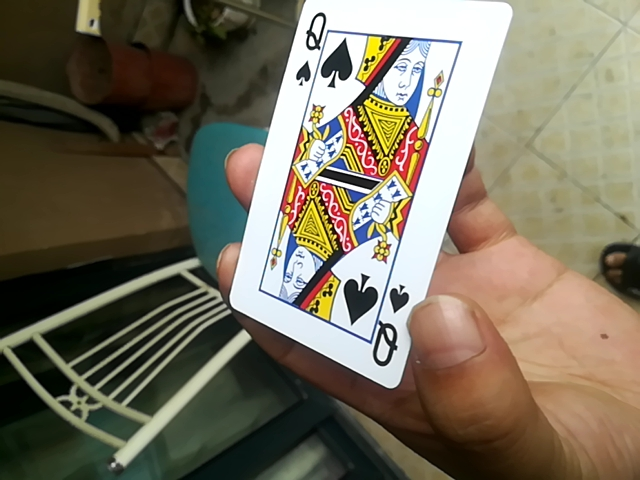ht q: (230, 1, 510, 395)
